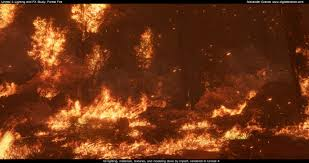fire: (92, 95, 148, 125), (50, 100, 86, 134), (37, 21, 63, 67), (73, 3, 111, 33), (1, 130, 27, 159), (180, 136, 224, 149)
smoke: (101, 60, 185, 101)
